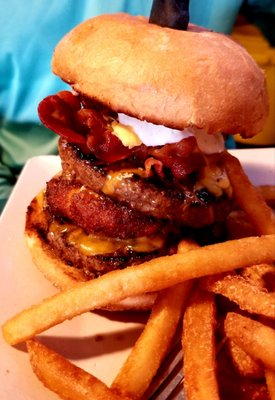soup: (22, 12, 275, 383)
